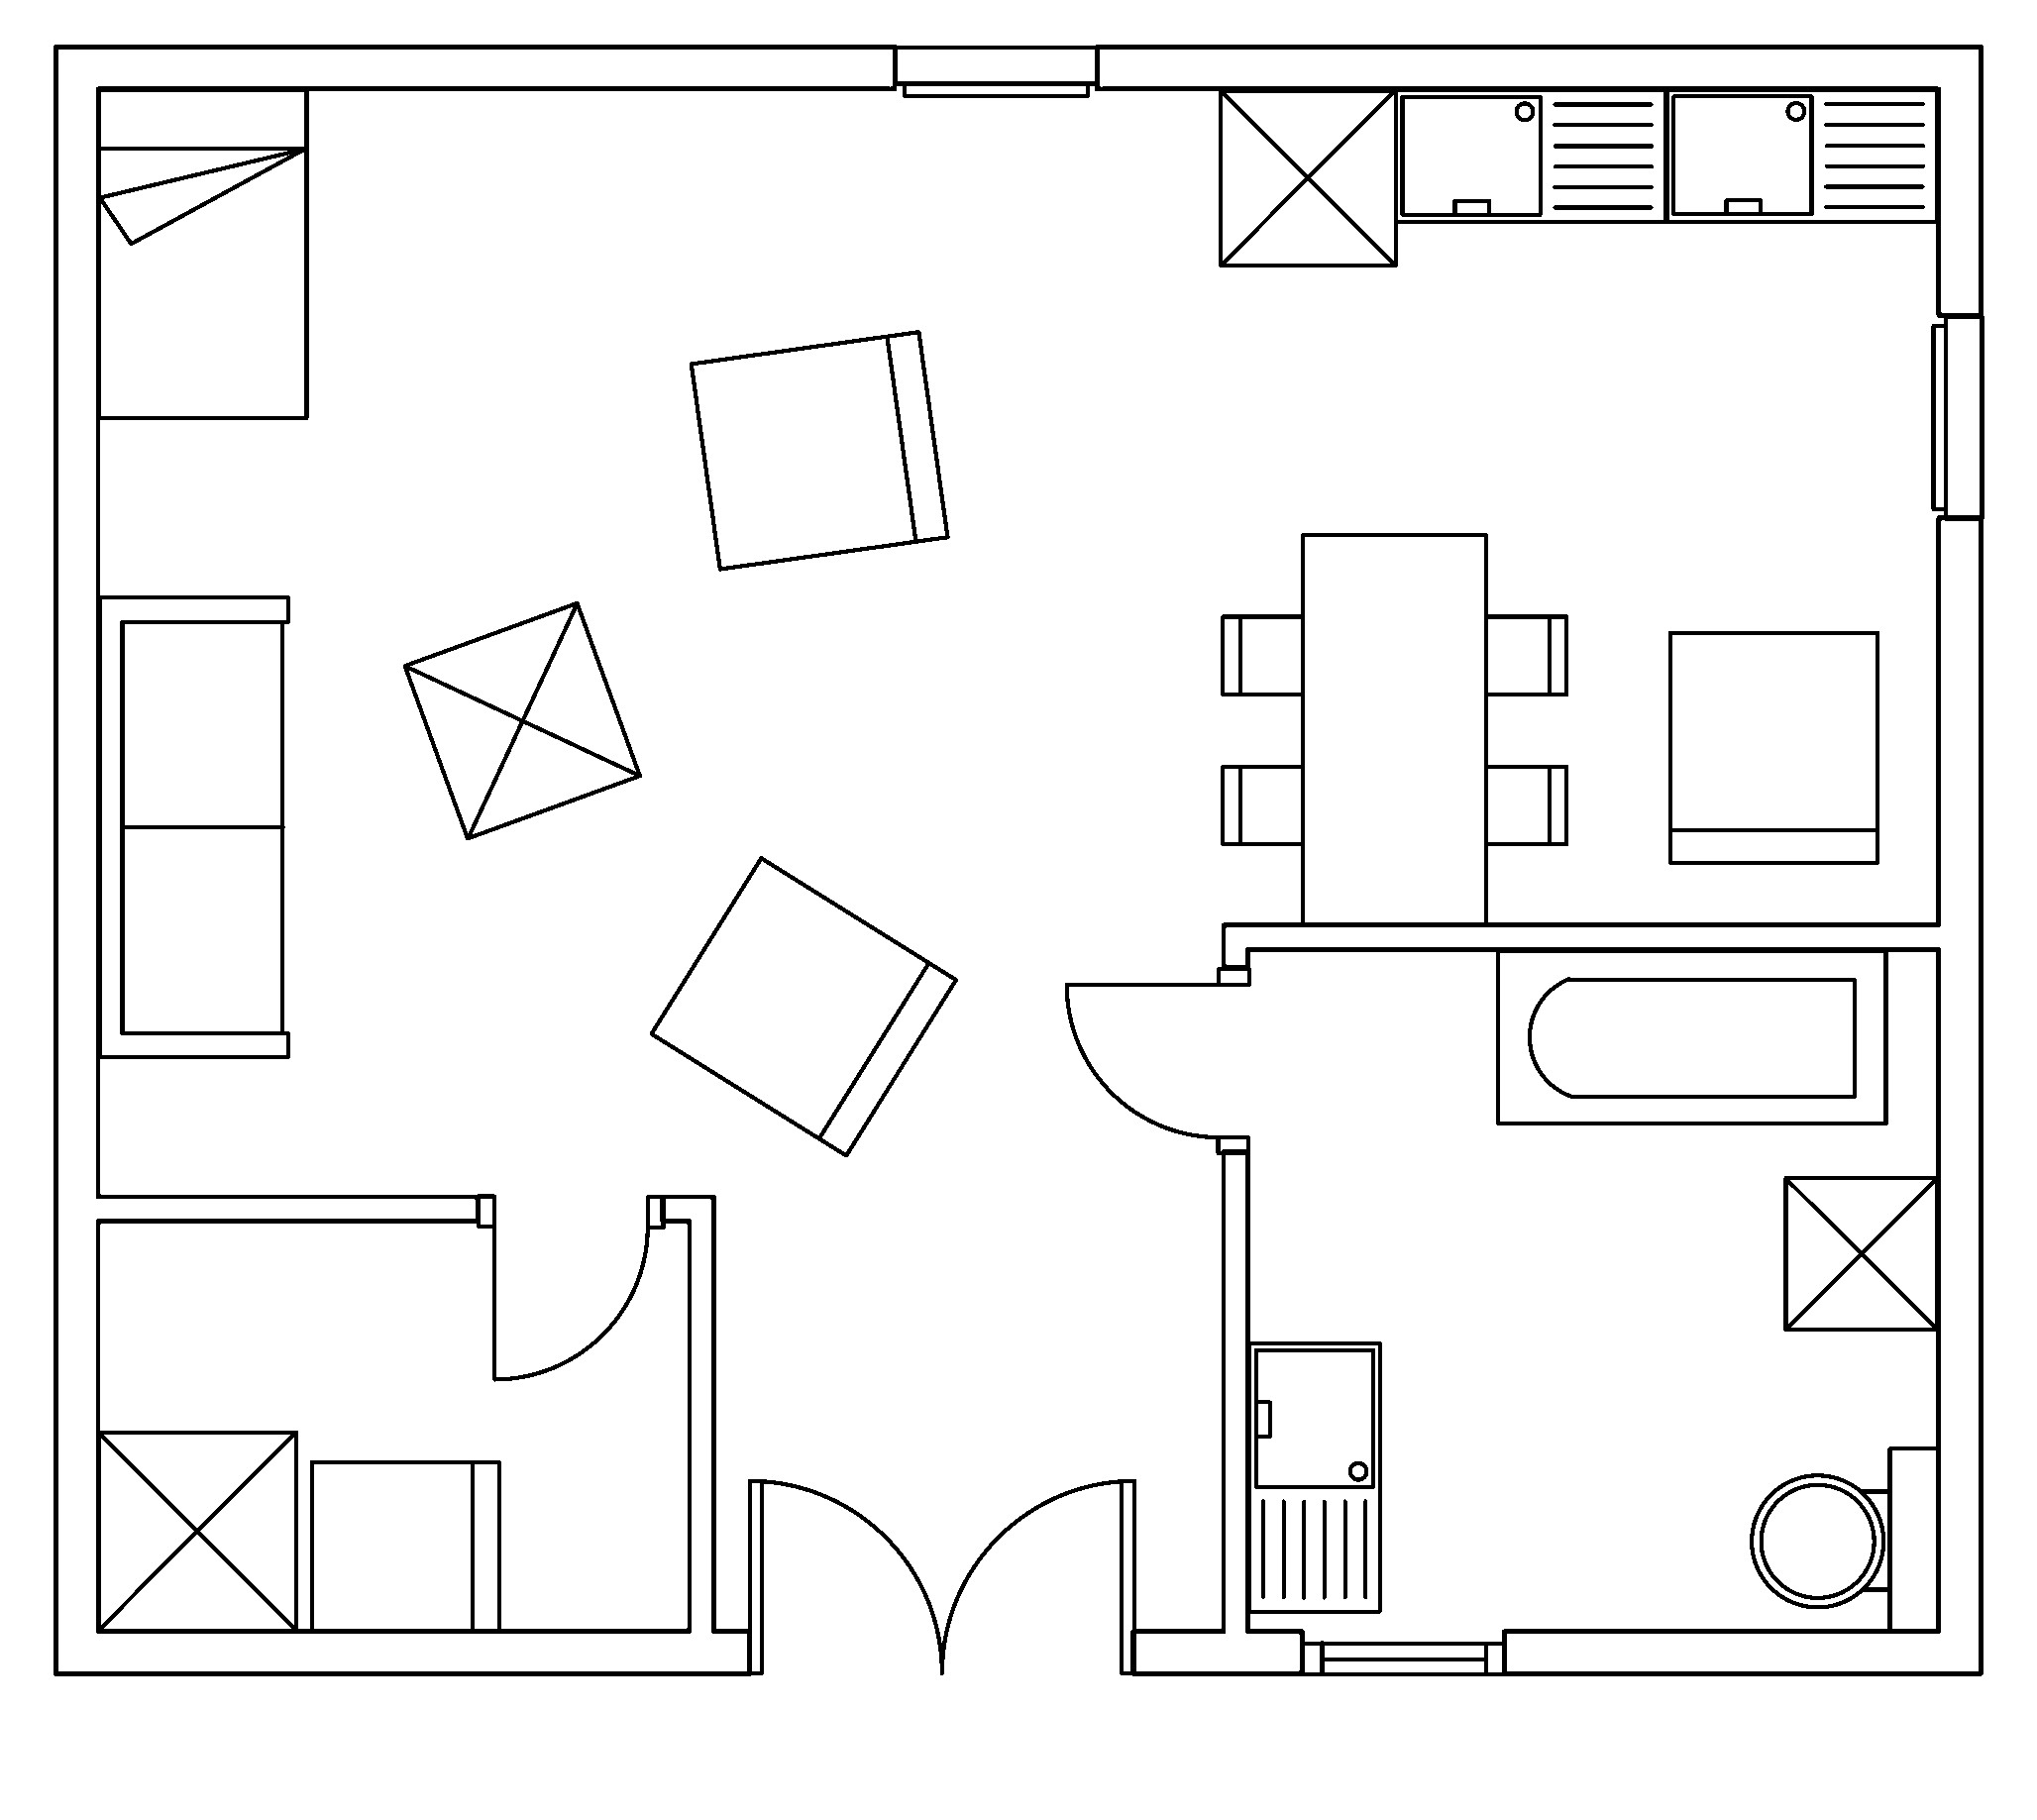bed: (95, 86, 309, 420)
coffee_table: (402, 599, 643, 840), (95, 1428, 299, 1632), (1217, 86, 1398, 267), (1781, 1174, 1940, 1332)
dining_table: (1219, 531, 1568, 926)
large_sink: (1749, 1444, 1940, 1632)
large_sofa: (97, 594, 290, 1059)
sink: (1663, 86, 1940, 223), (1245, 1339, 1382, 1614), (1393, 86, 1668, 223)
small_sofa: (646, 854, 959, 1158), (688, 329, 950, 571), (1666, 629, 1879, 864), (307, 1458, 500, 1632)
tub: (1494, 947, 1888, 1126)
